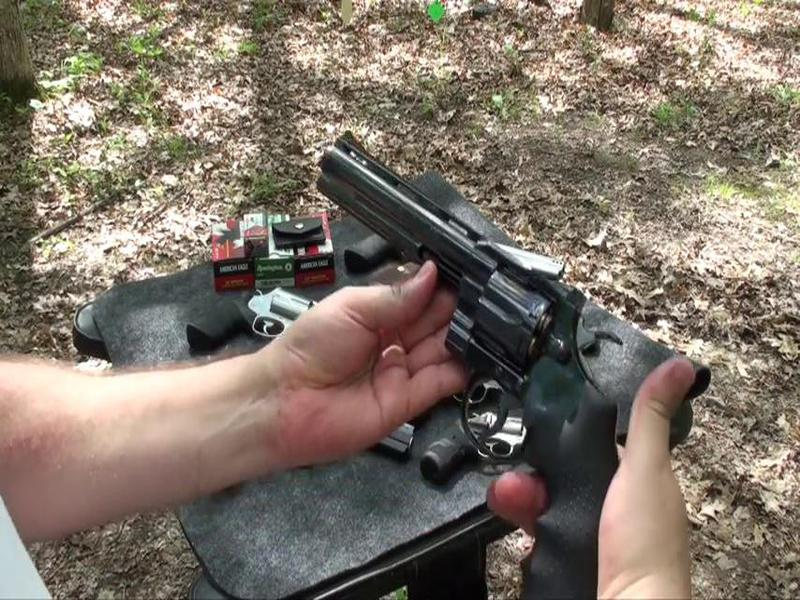Revolver: (294, 131, 673, 600)
